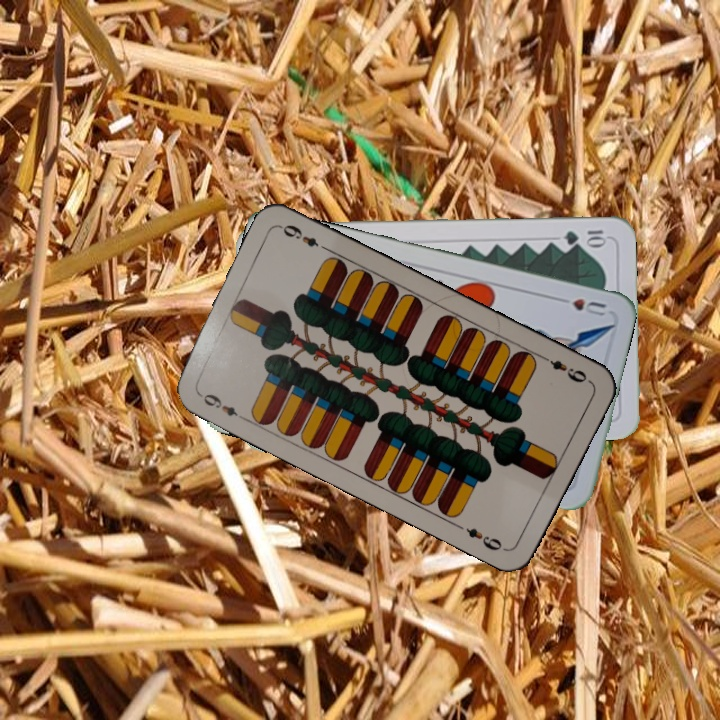E9: (194, 388, 248, 423), (537, 351, 590, 386)
G10: (560, 226, 609, 247)
HU: (552, 294, 609, 319)
